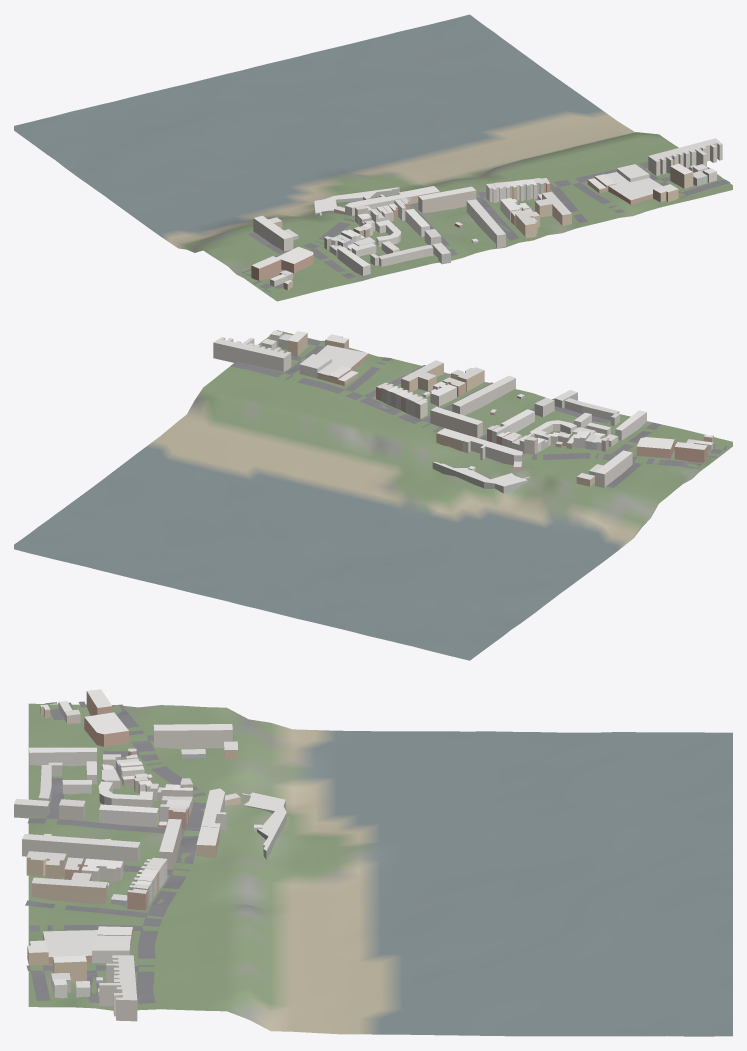
3 views of the same model, one above another, from view 1: azimuth 30°, elevation 25°; view 2: azimuth 150°, elevation 25°; view 3: azimuth 270°, elevation 25° (orthographic). The views are drawn at different scales.
Parts seen in each view (by area): view 1: prim0, prim1, prim2; view 2: prim0, prim1, prim2; view 3: prim0, prim1, prim2.
Part boxes in pixels (<box>): prim0: <box>14,14,732,301</box>; prim1: <box>251,138,722,290</box>; prim2: <box>241,161,730,292</box>; prim0: <box>14,330,732,660</box>; prim1: <box>213,330,713,493</box>; prim2: <box>230,334,726,487</box>; prim0: <box>28,703,732,1036</box>; prim1: <box>14,689,286,1021</box>; prim2: <box>25,701,206,1003</box>.
Size of the model in its own units: 543 by 43.44 by 523.
